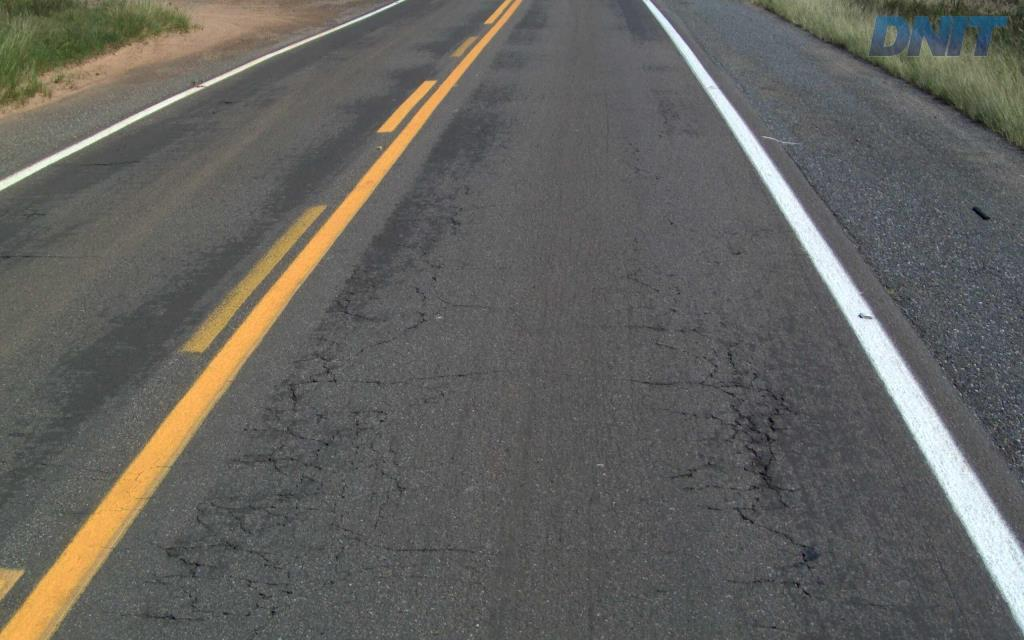crack: (744, 432, 784, 494)
